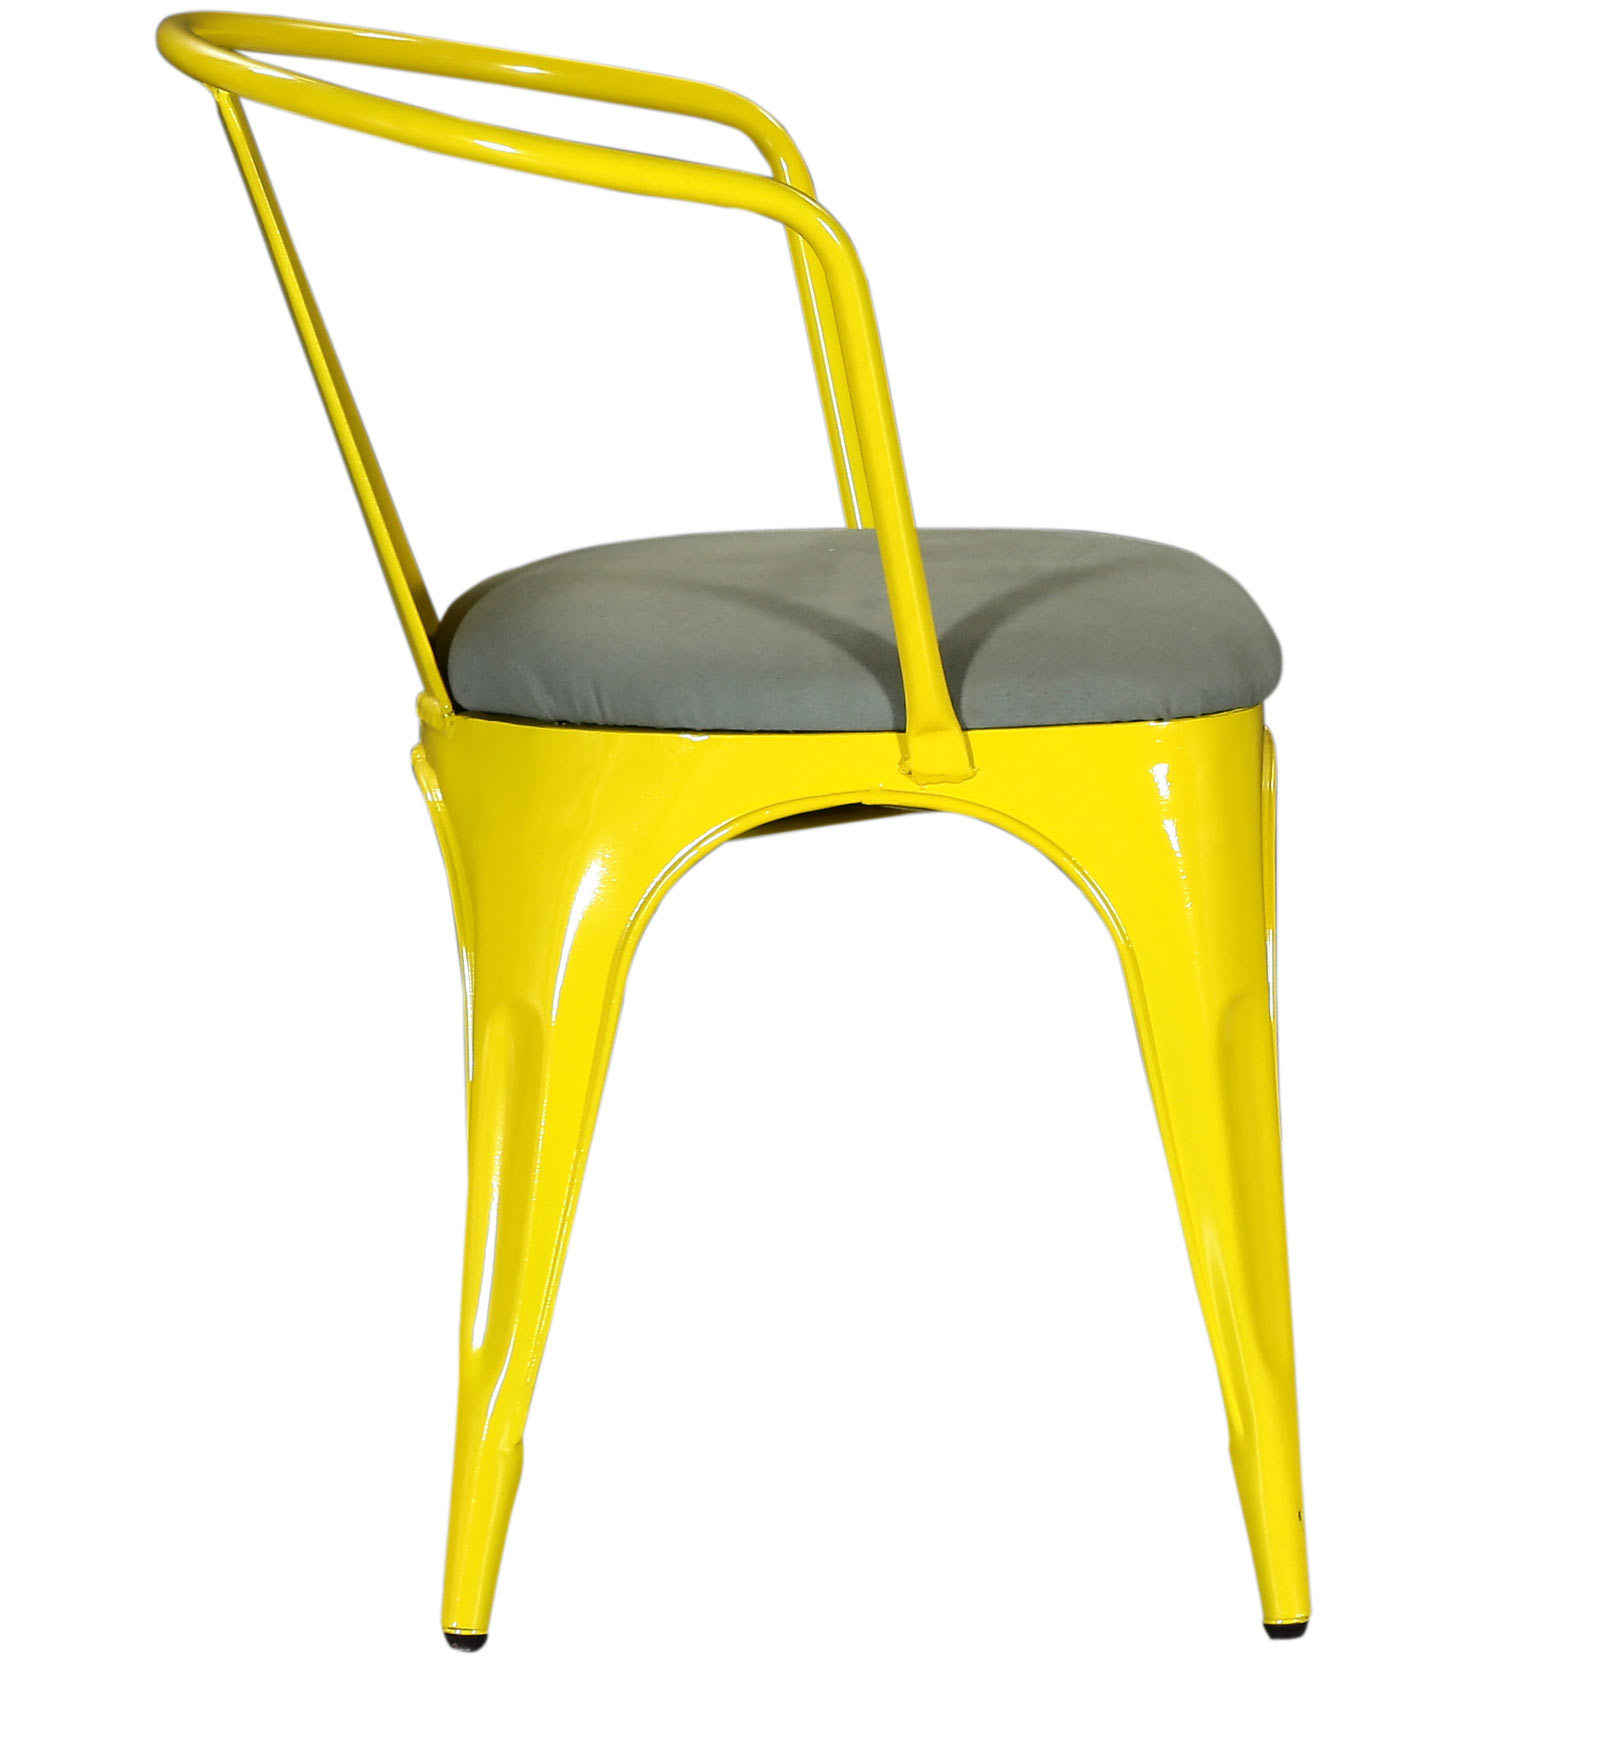Danlou Metal Chair with Cushion in Yellow Color by Bohemiana: (70, 2, 1401, 1706)
